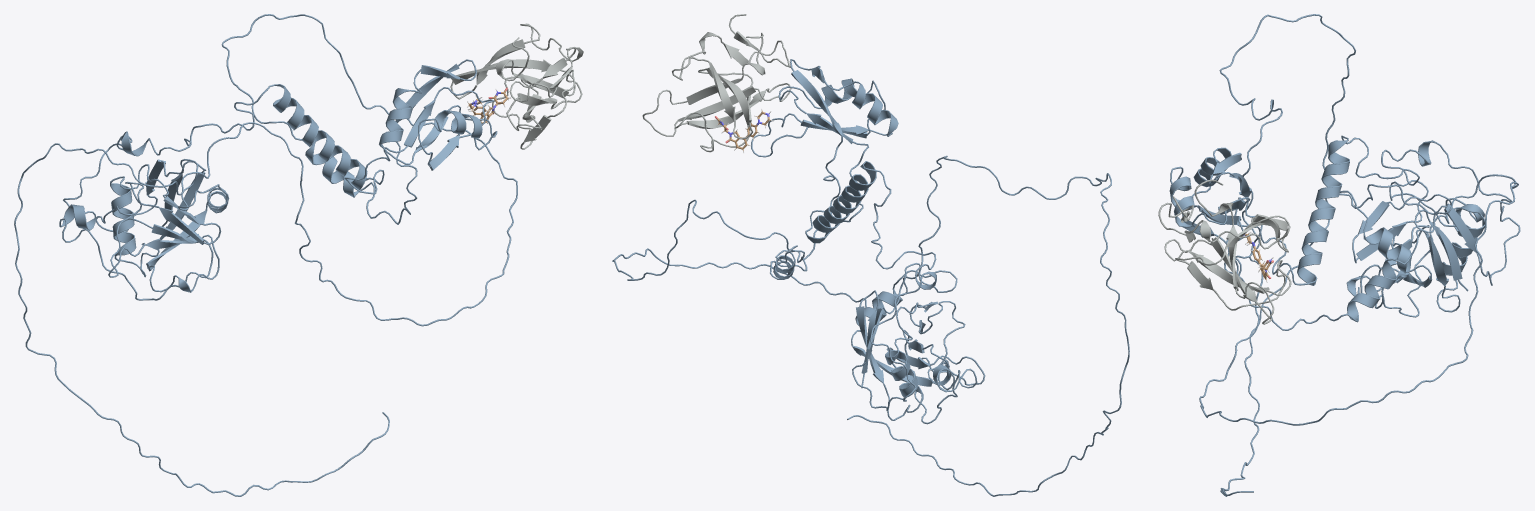
Rendered from Z6466608628_positive_control.glb.
3 views of the same model, side by side, from view 1: azimuth 30°, elevation 25°; view 2: azimuth 150°, elevation 25°; view 3: azimuth 270°, elevation 25° (orthographic). The views are drawn at different scales.
Parts seen in each view (by area): view 1: node-geom97, node-geom98; view 2: node-geom97, node-geom98; view 3: node-geom97, node-geom98.
Boxes of the visible parts, left/top/right/bottom form: node-geom97: left=59, top=23, right=583, bottom=300; node-geom98: left=14, top=14, right=517, bottom=496; node-geom97: left=642, top=14, right=985, bottom=424; node-geom98: left=612, top=59, right=1129, bottom=496; node-geom97: left=1158, top=135, right=1520, bottom=324; node-geom98: left=1169, top=14, right=1518, bottom=496.
Size of the model in its own units: 142 by 102 by 80.63.
